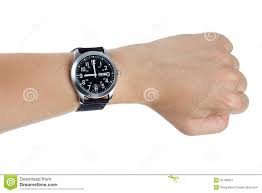clock: (75, 54, 115, 97)
